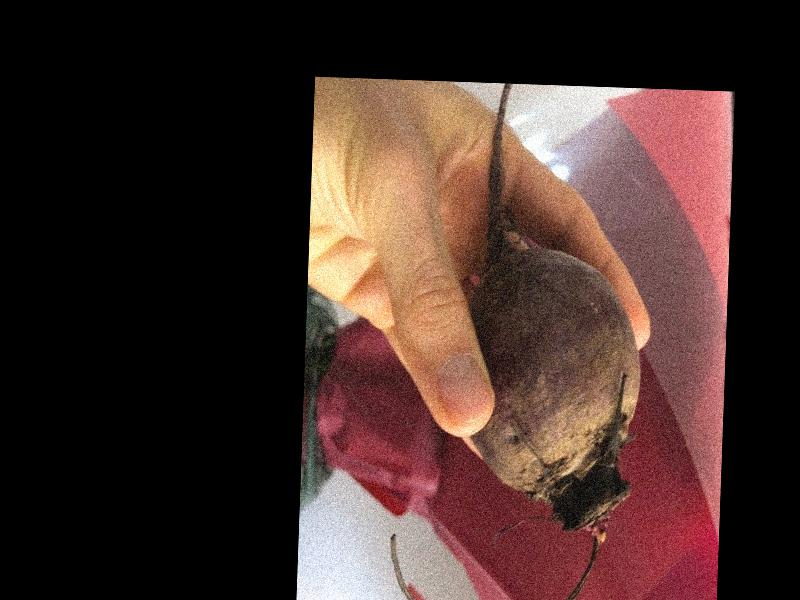Beet: (387, 82, 650, 600)
